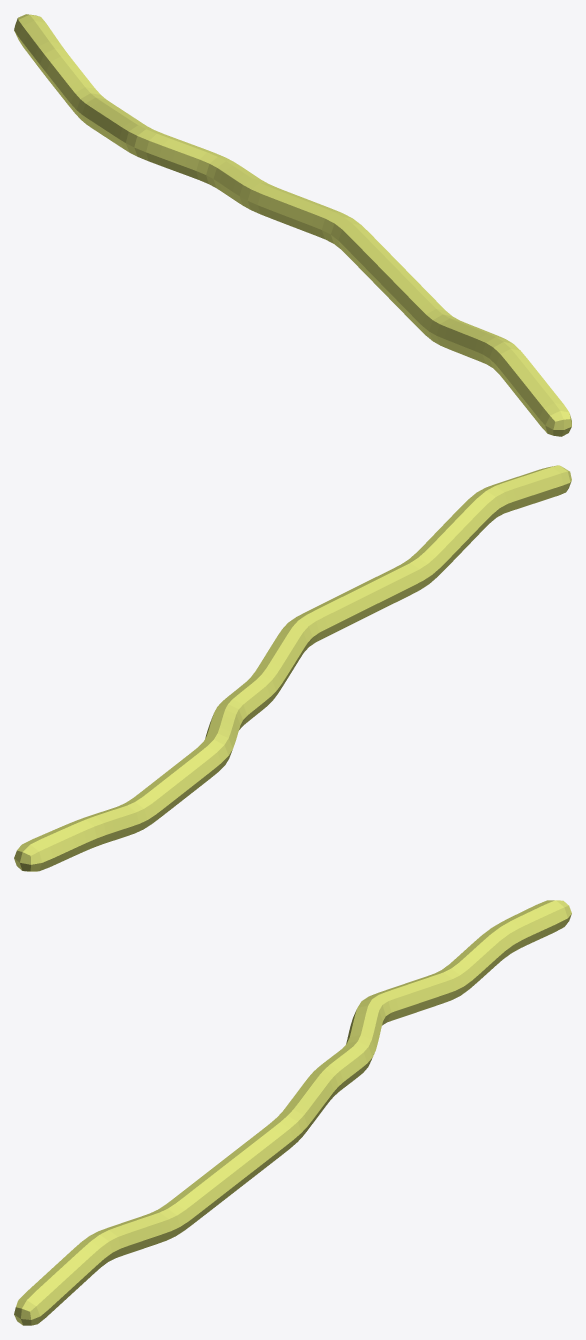
The model's file is mayo.fbx.
3 views of the same model, one above another, from view 1: azimuth 30°, elevation 25°; view 2: azimuth 150°, elevation 25°; view 3: azimuth 330°, elevation 25° (orthographic).
Parts seen in each view (by area): view 1: Sauce; view 2: Sauce; view 3: Sauce.
Boxes of the visible parts, bbox=[...] form: Sauce: bbox=[14, 14, 571, 436]; Sauce: bbox=[14, 465, 571, 871]; Sauce: bbox=[14, 900, 571, 1325].
Bounding box in the file's own units: 4.76 × 2.72 × 52.72.
